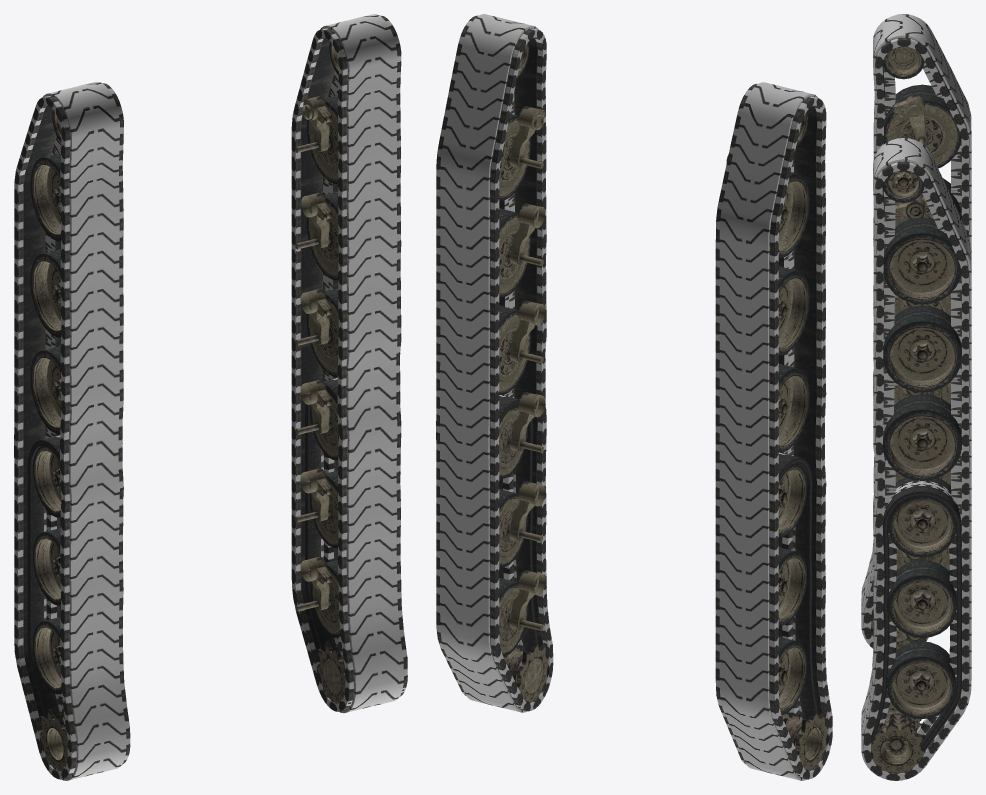
The model's file is Chassis.glb.
3 renders of one model, left to right at view 1: azimuth 30°, elevation 25°; view 2: azimuth 150°, elevation 25°; view 3: azimuth 270°, elevation 25°, orthographic. The views are drawn at different scales.
Visible parts, largest first — view 1: set_0_group_0, set_1_group_0, set_3_group_0, set_2_group_0, set_0_group_1, set_1_group_1; view 2: set_0_group_0, set_1_group_0, set_3_group_0, set_2_group_0, set_0_group_1, set_1_group_1; view 3: set_3_group_0, set_1_group_0, set_0_group_0, set_2_group_0, set_1_group_1.
Part boxes in pixels (x1,y1,x2,y2): set_0_group_0: (14,81,130,780); set_1_group_0: (291,14,407,713); set_3_group_0: (294,41,404,711); set_2_group_0: (30,109,122,771); set_0_group_1: (27,435,64,721); set_1_group_1: (305,378,342,654); set_0_group_0: (715,82,832,780); set_1_group_0: (436,14,553,712); set_3_group_0: (464,42,547,707); set_2_group_0: (726,110,827,776); set_0_group_1: (778,452,818,720); set_1_group_1: (499,395,539,652); set_3_group_0: (871,170,961,773); set_1_group_0: (861,138,971,780); set_0_group_0: (861,14,971,651); set_2_group_0: (871,46,961,649); set_1_group_1: (871,477,961,754).
Size of the model in its own units: 3.5 by 6.76 by 1.09.
Materials: 6 (6 with a texture image).
